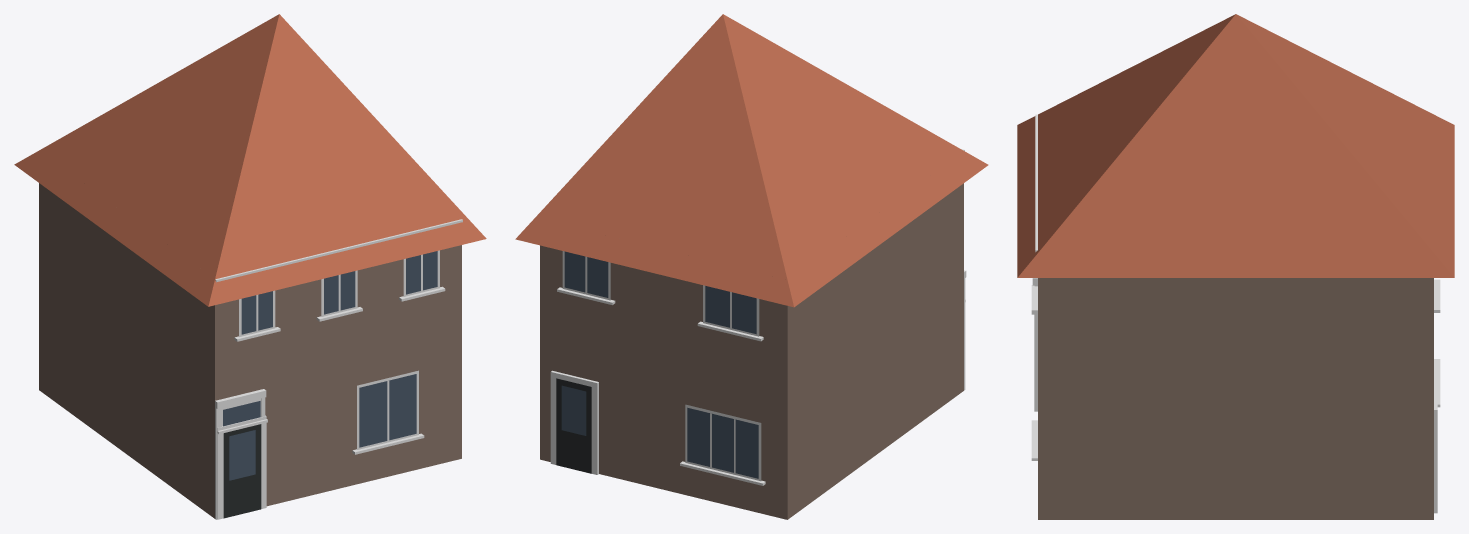
The model's file is nn-row-small__small__2__hip__long__solid__free.glb.
3 views of the same model, side by side, from view 1: azimuth 30°, elevation 25°; view 2: azimuth 150°, elevation 25°; view 3: azimuth 270°, elevation 25° (orthographic). The views are drawn at different scales.
Parts seen in each view (by area): view 1: nn-row-small__small__2__hip__long__solid__free; view 2: nn-row-small__small__2__hip__long__solid__free; view 3: nn-row-small__small__2__hip__long__solid__free.
Boxes of the visible parts, bbox=[...] form: nn-row-small__small__2__hip__long__solid__free: bbox=[14, 14, 486, 519]; nn-row-small__small__2__hip__long__solid__free: bbox=[515, 14, 988, 519]; nn-row-small__small__2__hip__long__solid__free: bbox=[1017, 14, 1454, 519].
Size of the model in its own units: 7.05 by 9.76 by 8.52.
